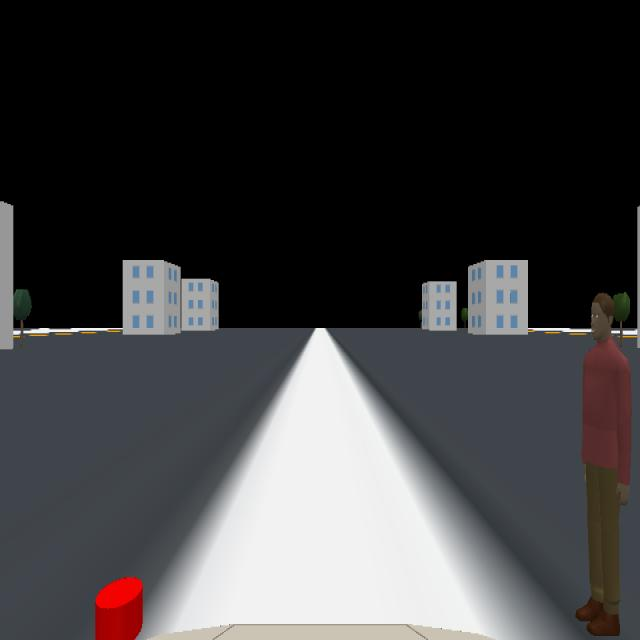human: (575, 292, 632, 635)
